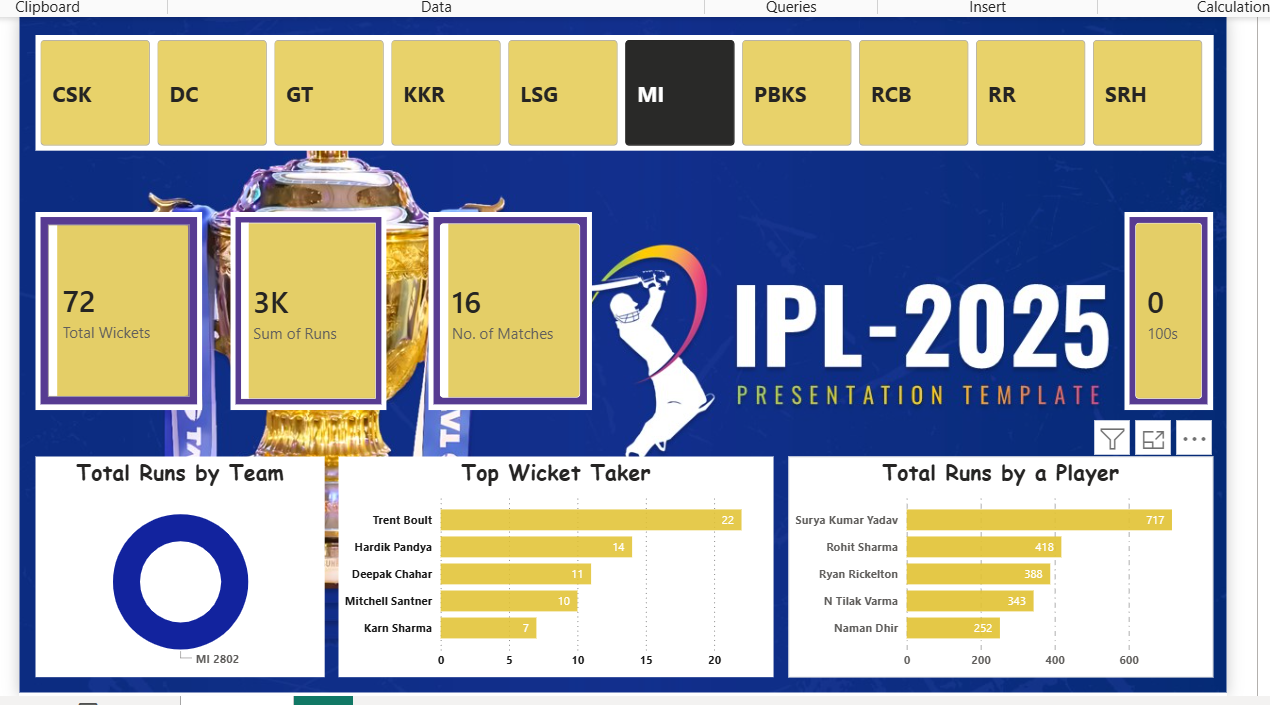

This screenshot's page, from the dashboard's own definition file:
{"tool":"powerbi","page":{"name":"Page 1","canvas":[1280,720],"ordinal":0},"visuals":[{"type":"barChart","title":"Total Runs by a Player","fields":{"Y":["Sum(batters_stats.Runs)"],"Category":["batters_stats.Player Name"]},"box":[816,466,450.1,233.8],"z":0},{"type":"donutChart","title":"Total Runs by Team","fields":{"Y":["Sum(batters_stats.Runs)"],"Category":["batters_stats.Team"]},"box":[17.5,466,307,233.8],"z":1000},{"type":"barChart","title":"Top Wicket Taker","fields":{"Category":["IPL_2025Bowlers.Player Name"],"Y":["Sum(IPL_2025Bowlers.WKT)"]},"box":[338.8,466,461.3,233.8],"z":2000},{"type":"cardVisual","fields":{"Data":["Sum(batters_stats.Runs)"]},"box":[224.3,206.8,165.4,210],"z":3000},{"type":"cardVisual","fields":{"Data":["Sum(IPL_2025Bowlers.WKT)"]},"box":[17.5,206.8,176.6,210],"z":4000},{"type":"advancedSlicerVisual","fields":{"Values":["batters_stats.Team"]},"box":[17,18.9,1249.1,122.8],"z":4001},{"type":"cardVisual","fields":{"Data":["CountNonNull(batters_stats.Matches)"]},"box":[434.2,206.8,173.4,210],"z":4002},{"type":"cardVisual","fields":{"Data":["Sum(batters_stats.100s)"]},"box":[1172.3,206.8,93.8,210],"z":4003}]}

Visuals, with their boxes in screenshot pixels (x1, y1, x2, y2):
"Total Runs by a Player" barChart: 787:463:1222:688
"Total Runs by Team" donutChart: 17:463:313:688
"Top Wicket Taker" barChart: 327:463:772:688
cardVisual - Sum(batters_stats.Runs): 216:213:376:415
cardVisual - Sum(IPL_2025Bowlers.WKT): 17:213:187:415
advancedSlicerVisual - batters_stats.Team: 16:31:1222:150
cardVisual - CountNonNull(batters_stats.Matches): 419:213:586:415
cardVisual - Sum(batters_stats.100s): 1131:213:1222:415
